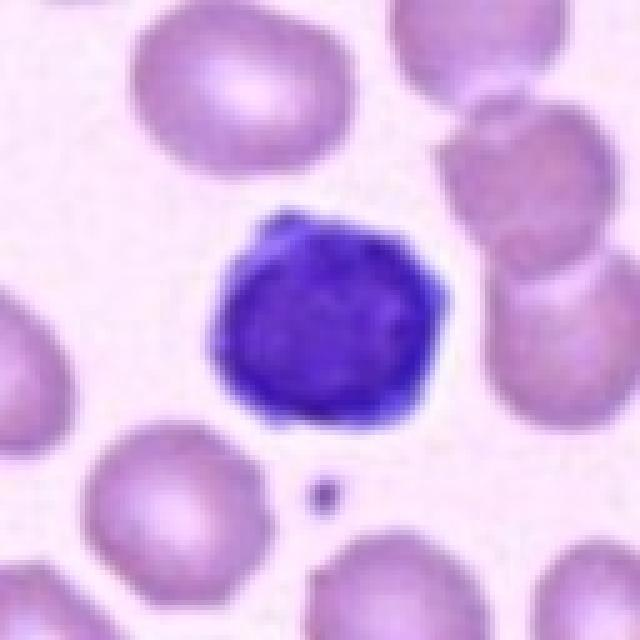lympho: (205, 197, 463, 437)
